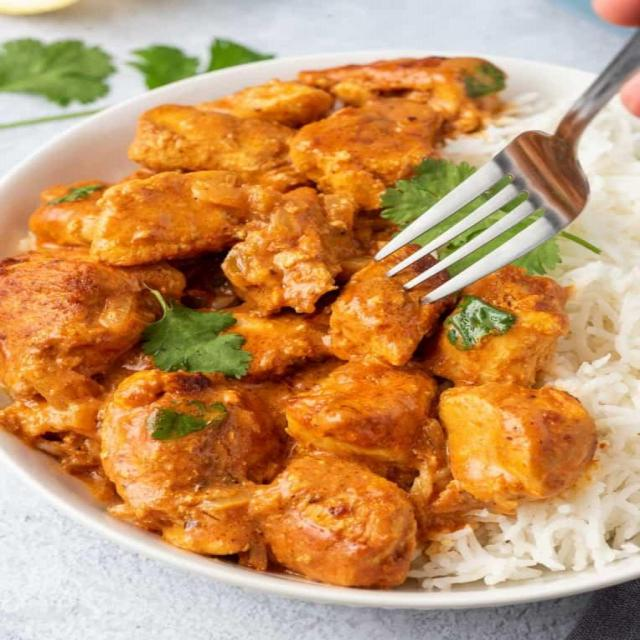chicken: (11, 57, 526, 567)
